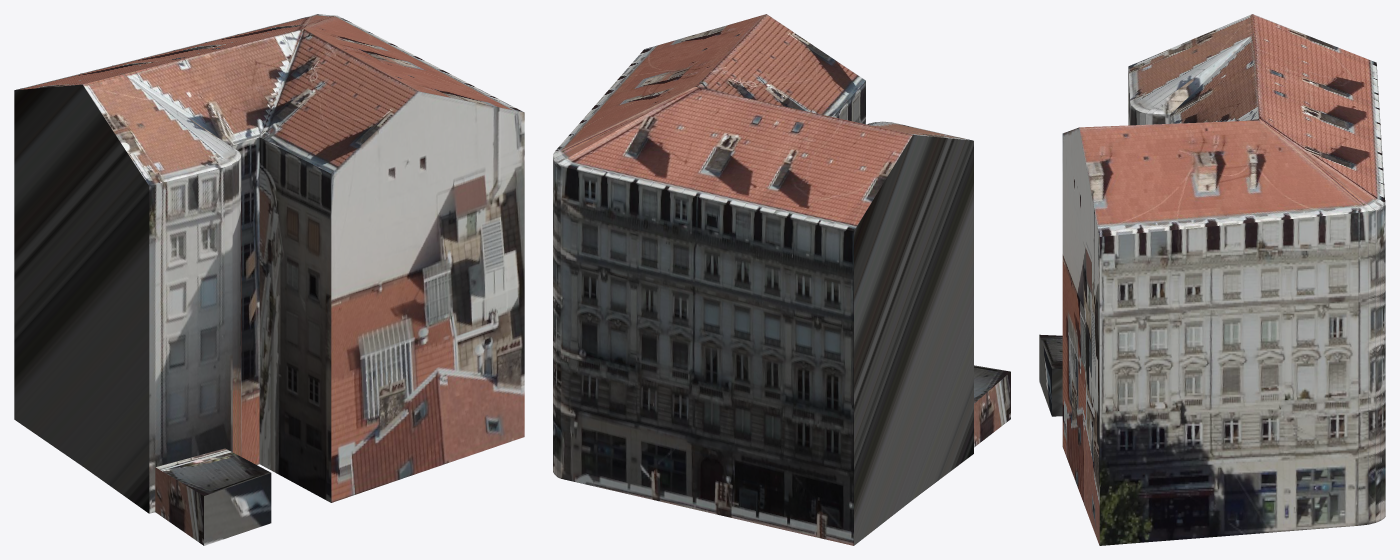
3 renders of one model, left to right at view 1: azimuth 30°, elevation 25°; view 2: azimuth 150°, elevation 25°; view 3: azimuth 270°, elevation 25°, orthographic. The views are drawn at different scales.
Visible parts, largest first — view 1: Z_UP; view 2: Z_UP; view 3: Z_UP.
Part boxes in pixels (left/top/right/bottom): Z_UP: left=14, top=14, right=524, bottom=545; Z_UP: left=553, top=14, right=1010, bottom=545; Z_UP: left=1039, top=14, right=1385, bottom=545.
Size of the model in its own units: 27.25 by 27.26 by 23.49.
Materials: 2 (1 with a texture image).
